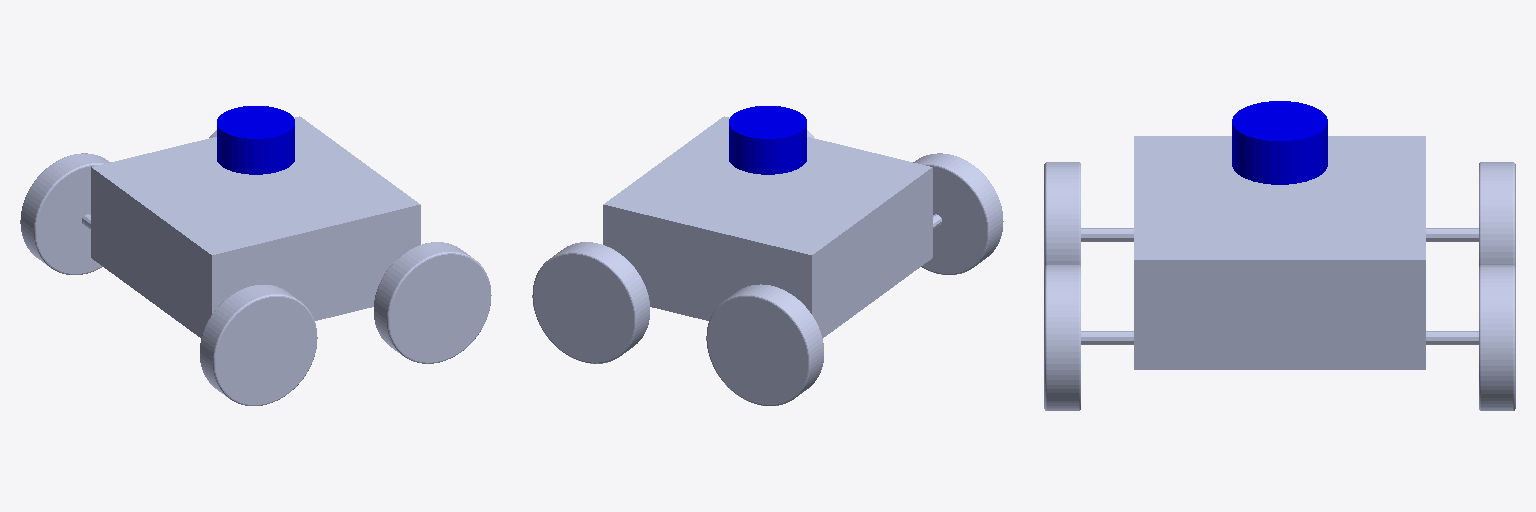
URDF robot description (inesrobot):
<?xml version="1.0" encoding="utf-8"?>
<!-- This URDF was automatically created by SolidWorks to URDF Exporter! Originally created by Stephen Brawner (brawner@gmail.com) 
     Commit Version: 1.6.0-4-g7f85cfe  Build Version: 1.6.7995.38578
     For more information, please see http://wiki.ros.org/sw_urdf_exporter -->
<robot
  name="inesrobot">
  <link
    name="base_link">
    <inertial>
      <origin
        xyz="0 -6.93889390390723E-18 -0.063659112489263"
        rpy="0 0 0" />
      <mass
        value="11.848166164294" />
      <inertia
        ixx="0.10903300626607"
        ixy="-5.77041195316992E-18"
        ixz="-1.55703327600684E-18"
        iyy="0.108073882786479"
        iyz="2.84265142059592E-19"
        izz="0.185245611139067" />
    </inertial>
    <visual>
      <origin
        xyz="0 0 0"
        rpy="0 0 0" />
      <geometry>
        <mesh
          filename="package://inesrobot/meshes/base_link.STL" />
      </geometry>
      <material
        name="">
        <color
          rgba="0.792156862745098 0.819607843137255 0.933333333333333 1" />
      </material>
    </visual>
    <collision>
      <origin
        xyz="0 0 0"
        rpy="0 0 0" />
      <geometry>
        <mesh
          filename="package://inesrobot/meshes/base_link.STL" />
      </geometry>
    </collision>
  </link>
  <link
    name="WheelAvD_Link">
    <inertial>
      <origin
        xyz="5.55111512312578E-17 0.0190056956240241 1.38777878078145E-17"
        rpy="0 0 0" />
      <mass
        value="0.69103336820671" />
      <inertia
        ixx="0.00108828555880618"
        ixy="-1.81141999605506E-19"
        ixz="1.9840762320426E-19"
        iyy="0.00201013510282896"
        iyz="1.88890663860063E-21"
        izz="0.00108828555880618" />
    </inertial>
    <visual>
      <origin
        xyz="0 0 0"
        rpy="0 0 0" />
      <geometry>
        <mesh
          filename="package://inesrobot/meshes/WheelAvD_Link.STL" />
      </geometry>
      <material
        name="">
        <color
          rgba="0.792156862745098 0.819607843137255 0.933333333333333 1" />
      </material>
    </visual>
    <collision>
      <origin
        xyz="0 0 0"
        rpy="0 0 0" />
      <geometry>
        <mesh
          filename="package://inesrobot/meshes/WheelAvD_Link.STL" />
      </geometry>
    </collision>
  </link>
  <joint
    name="wheelAvD"
    type="continuous">
    <origin
      xyz="0.127 -0.2455 -0.1016"
      rpy="0 0 0" />
    <parent
      link="base_link" />
    <child
      link="WheelAvD_Link" />
    <axis
      xyz="0 1 0" />
  </joint>
  <link
    name="WheelAvG_Link">
    <inertial>
      <origin
        xyz="0 -0.0190056956240241 -2.08166817117217E-17"
        rpy="0 0 0" />
      <mass
        value="0.691033368206711" />
      <inertia
        ixx="0.00108828555880618"
        ixy="-1.03840485052092E-19"
        ixz="1.41247790583572E-19"
        iyy="0.00201013510282896"
        iyz="-7.96251205855057E-20"
        izz="0.00108828555880618" />
    </inertial>
    <visual>
      <origin
        xyz="0 0 0"
        rpy="0 0 0" />
      <geometry>
        <mesh
          filename="package://inesrobot/meshes/WheelAvG_Link.STL" />
      </geometry>
      <material
        name="">
        <color
          rgba="0.792156862745098 0.819607843137255 0.933333333333333 1" />
      </material>
    </visual>
    <collision>
      <origin
        xyz="0 0 0"
        rpy="0 0 0" />
      <geometry>
        <mesh
          filename="package://inesrobot/meshes/WheelAvG_Link.STL" />
      </geometry>
    </collision>
  </link>
  <joint
    name="wheelAvG"
    type="continuous">
    <origin
      xyz="0.127 0.2455 -0.1016"
      rpy="0 0 0" />
    <parent
      link="base_link" />
    <child
      link="WheelAvG_Link" />
    <axis
      xyz="0 1 0" />
  </joint>
  <link
    name="WheelArG_Link">
    <inertial>
      <origin
        xyz="0 -0.0190056956240242 6.93889390390723E-18"
        rpy="0 0 0" />
      <mass
        value="0.691033368206711" />
      <inertia
        ixx="0.00108828555880618"
        ixy="-2.4203790135328E-19"
        ixz="1.23228288769189E-19"
        iyy="0.00201013510282896"
        iyz="-2.90689102975137E-19"
        izz="0.00108828555880618" />
    </inertial>
    <visual>
      <origin
        xyz="0 0 0"
        rpy="0 0 0" />
      <geometry>
        <mesh
          filename="package://inesrobot/meshes/WheelArG_Link.STL" />
      </geometry>
      <material
        name="">
        <color
          rgba="0.792156862745098 0.819607843137255 0.933333333333333 1" />
      </material>
    </visual>
    <collision>
      <origin
        xyz="0 0 0"
        rpy="0 0 0" />
      <geometry>
        <mesh
          filename="package://inesrobot/meshes/WheelArG_Link.STL" />
      </geometry>
    </collision>
  </link>
  <joint
    name="wheelArG"
    type="continuous">
    <origin
      xyz="-0.127 0.2455 -0.1016"
      rpy="0 0 0" />
    <parent
      link="base_link" />
    <child
      link="WheelArG_Link" />
    <axis
      xyz="0 1 0" />
  </joint>
  <link
    name="wheelArD_Link">
    <inertial>
      <origin
        xyz="0 0.0190056956240241 2.08166817117217E-17"
        rpy="0 0 0" />
      <mass
        value="0.691033368206711" />
      <inertia
        ixx="0.00108828555880618"
        ixy="-1.75132610602595E-19"
        ixz="-8.15212491957661E-20"
        iyy="0.00201013510282897"
        iyz="9.08678970941803E-21"
        izz="0.00108828555880618" />
    </inertial>
    <visual>
      <origin
        xyz="0 0 0"
        rpy="0 0 0" />
      <geometry>
        <mesh
          filename="package://inesrobot/meshes/wheelArD_Link.STL" />
      </geometry>
      <material
        name="">
        <color
          rgba="0.792156862745098 0.819607843137255 0.933333333333333 1" />
      </material>
    </visual>
    <collision>
      <origin
        xyz="0 0 0"
        rpy="0 0 0" />
      <geometry>
        <mesh
          filename="package://inesrobot/meshes/wheelArD_Link.STL" />
      </geometry>
    </collision>
  </link>
  <joint
    name="wheelArd"
    type="continuous">
    <origin
      xyz="-0.127 -0.2455 -0.1016"
      rpy="0 0 0" />
    <parent
      link="base_link" />
    <child
      link="wheelArD_Link" />
    <axis
      xyz="0 1 0" />
  </joint>

 <!-- Ajout du RPLIDAR -->
<link name="rplidar_link">
  <inertial>
    <mass value="0.1" /> <!-- Masse du LiDAR -->
    <origin xyz="0 0 0" rpy="0 0 0" />
    <inertia ixx="0.01" ixy="0.0" ixz="0.0" iyy="0.01" iyz="0.0" izz="0.01" />
  </inertial>

  <visual>
    <origin xyz="0 0 0" rpy="0 0 0" />
    <geometry>
      <cylinder length="0.05" radius="0.05" /> <!-- Forme du RPLIDAR -->
    </geometry>
    <material name="blue">
      <color rgba="0 0 1 1" />
    </material>
  </visual>

  <collision>
    <origin xyz="0 0 0" rpy="0 0 0" />
    <geometry>
      <cylinder length="0.05" radius="0.05" />
    </geometry>
  </collision>
</link>

<!-- Joint pour connecter le RPLIDAR au base_link -->
<joint name="rplidar_joint" type="fixed">
  <parent link="base_link" />
  <child link="rplidar_link" />
  <origin xyz="0 0 0.063659112489263" rpy="0 0 0" /> <!-- Position du LiDAR -->
</joint>

<!-- Configuration du RPLIDAR dans Gazebo -->
<gazebo reference="rplidar_link">
  <sensor name="rplidar_sensor" type="ray">
    <always_on>true</always_on>
    <update_rate>10</update_rate> <!-- Fréquence de mise à jour du LiDAR -->
    <visualize>true</visualize> <!-- Activer la visualisation dans Gazebo -->
    <ray>
      <scan>
        <horizontal>
          <samples>360</samples> <!-- Nombre de points de scan (360 pour un RPLIDAR A1) -->
          <resolution>1</resolution>
          <min_angle>-3.14159</min_angle> <!-- -180 degrés en radians -->
          <max_angle>3.14159</max_angle> <!-- 180 degrés en radians -->
        </horizontal>
      </scan>
      <range>
        <min>0.15</min> <!-- Distance minimale en mètres -->
        <max>12.0</max> <!-- Distance maximale en mètres -->
        <resolution>0.01</resolution> <!-- Résolution en mètres -->
      </range>
    </ray>
    <plugin name="gazebo_ros_rplidar_controller" filename="libgazebo_ros_laser.so">
      <topicName>/scan</topicName> <!-- Topic ROS pour publier les données du LiDAR -->
      <frameName>rplidar_link</frameName> <!-- Frame du LiDAR -->
    </plugin>
  </sensor>
</gazebo>



<gazebo>
  <plugin name="skid_steer_drive_controller" filename="libgazebo_ros_skid_steer_drive.so">
    <updateRate>100.0</updateRate>
    <robotNamespace>/</robotNamespace>
    <leftFrontJoint>wheelAvG</leftFrontJoint>
    <rightFrontJoint>wheelAvD</rightFrontJoint>
    <leftRearJoint>wheelArG</leftRearJoint>
    <rightRearJoint>wheelArd</rightRearJoint>
   <!-- <wheelSeparation>0.4</wheelSeparation>
    <wheelDiameter>0.215</wheelDiameter> -->
    <robotBaseFrame>base_link</robotBaseFrame>
    <torque>20</torque>
    <topicName>cmd_vel</topicName>
    <broadcastTF>false</broadcastTF>
  </plugin>
</gazebo>



</robot>

--- Render facts (derived) ---
3 views of the same robot in one strip: view 1: azimuth 30°, elevation 25°; view 2: azimuth 150°, elevation 25°; view 3: azimuth 270°, elevation 25° (orthographic).
Robot: inesrobot — 6 links, 5 joints (4 continuous, 1 fixed); root link base_link; default pose: every joint at zero.
Visible links, largest first — view 1: base_link, wheelArD_Link, WheelAvD_Link, WheelArG_Link, rplidar_link; view 2: base_link, WheelArG_Link, WheelAvG_Link, wheelArD_Link, rplidar_link; view 3: base_link, rplidar_link, WheelAvD_Link, WheelAvG_Link, WheelArG_Link, wheelArD_Link.
Link boxes in pixels (box(x1,y1,x2,y2)): base_link: box(82, 116, 420, 337); wheelArD_Link: box(200, 284, 317, 405); WheelAvD_Link: box(374, 242, 491, 363); WheelArG_Link: box(20, 153, 110, 274); rplidar_link: box(217, 106, 294, 174); base_link: box(603, 116, 941, 337); WheelArG_Link: box(706, 284, 823, 405); WheelAvG_Link: box(532, 242, 649, 363); wheelArD_Link: box(913, 153, 1003, 274); rplidar_link: box(729, 106, 806, 174); base_link: box(1081, 136, 1478, 369); rplidar_link: box(1232, 101, 1327, 184); WheelAvD_Link: box(1044, 265, 1080, 410); WheelAvG_Link: box(1479, 265, 1515, 410); WheelArG_Link: box(1479, 162, 1515, 266); wheelArD_Link: box(1044, 162, 1080, 266).
Size in the robot's own frame: 0.4064 by 0.491 by 0.2665 metres.
Meshes: 5 distinct files referenced, 5 mesh visuals loaded (5 binary STL).
